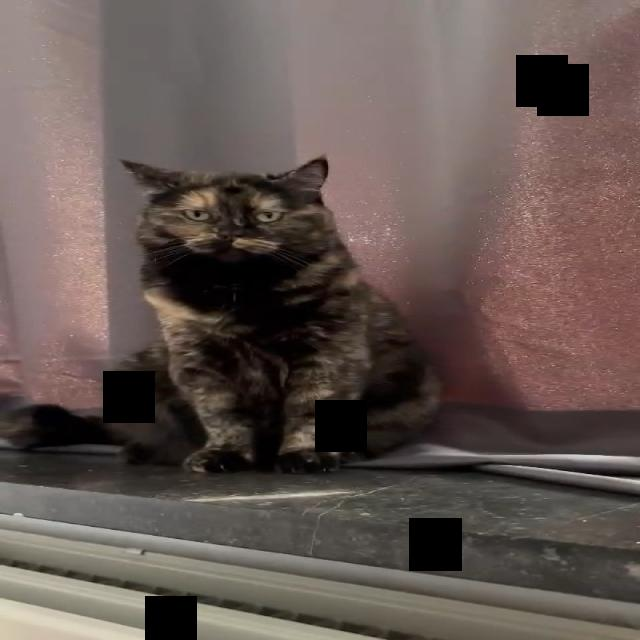authorized: (103, 153, 445, 475)
